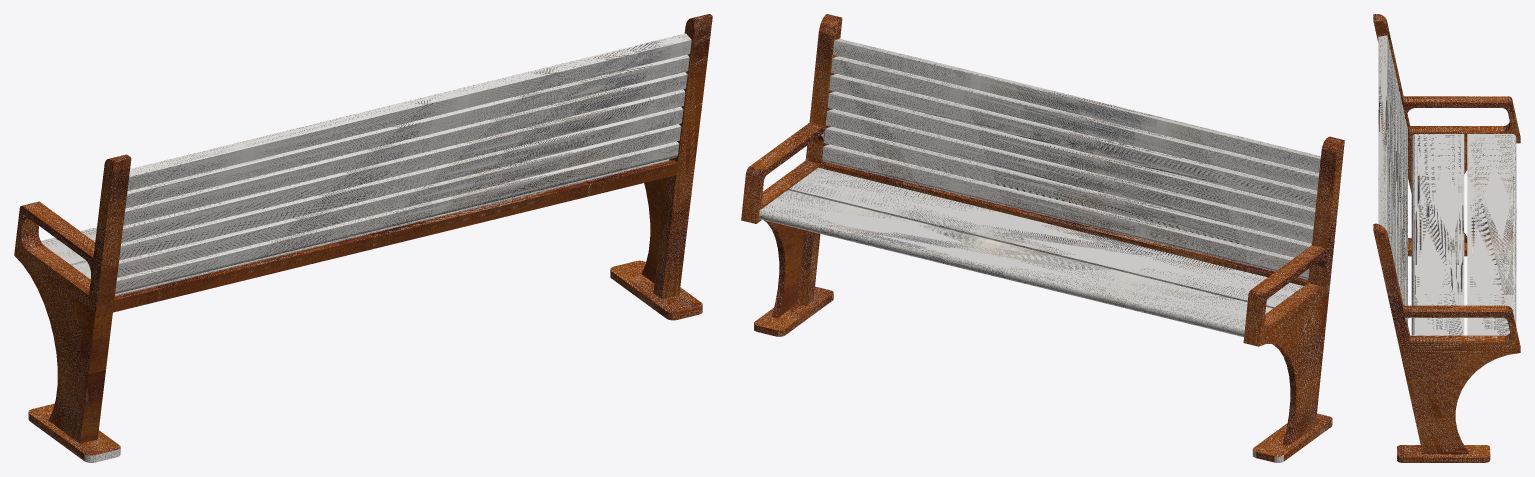
The picture shows the model from 3 angles, left to right: view 1: azimuth 30°, elevation 25°; view 2: azimuth 150°, elevation 25°; view 3: azimuth 270°, elevation 25°; orthographic projection. The views are drawn at different scales.
Parts seen in each view (by area): view 1: mesh1_mesh1-geometry; view 2: mesh1_mesh1-geometry; view 3: mesh1_mesh1-geometry.
Part boxes in pixels (x1=…): mesh1_mesh1-geometry: x1=14, y1=14, x2=712, y2=462; mesh1_mesh1-geometry: x1=741, y1=14, x2=1344, y2=462; mesh1_mesh1-geometry: x1=1373, y1=14, x2=1520, y2=462.
Bounding box in the file's own units: 0.8713 × 0.4254 × 0.2447.
